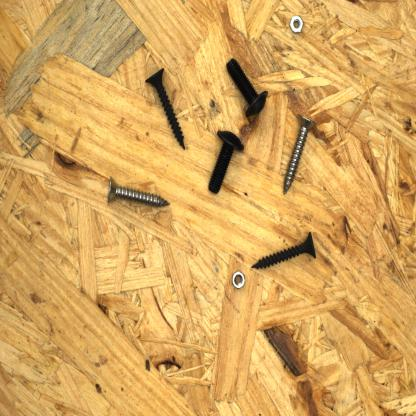screw: (145, 64, 188, 152), (282, 110, 318, 198), (224, 54, 269, 122), (248, 228, 318, 271), (208, 127, 246, 196), (106, 173, 171, 209)
